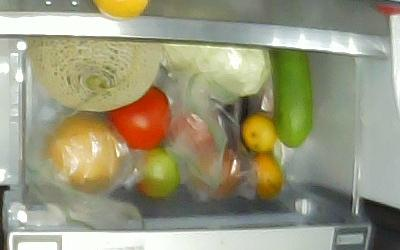cabbage: (160, 42, 271, 96)
melon: (28, 37, 160, 113)
pear_vinyl: (47, 115, 126, 196)
prune_vinyl: (162, 111, 215, 157)
tangerine: (251, 154, 281, 201), (241, 115, 278, 153)
tomato: (189, 149, 239, 201)
tomato_vinyl: (107, 85, 172, 150), (133, 150, 180, 199)
zucchini: (272, 52, 310, 147)
